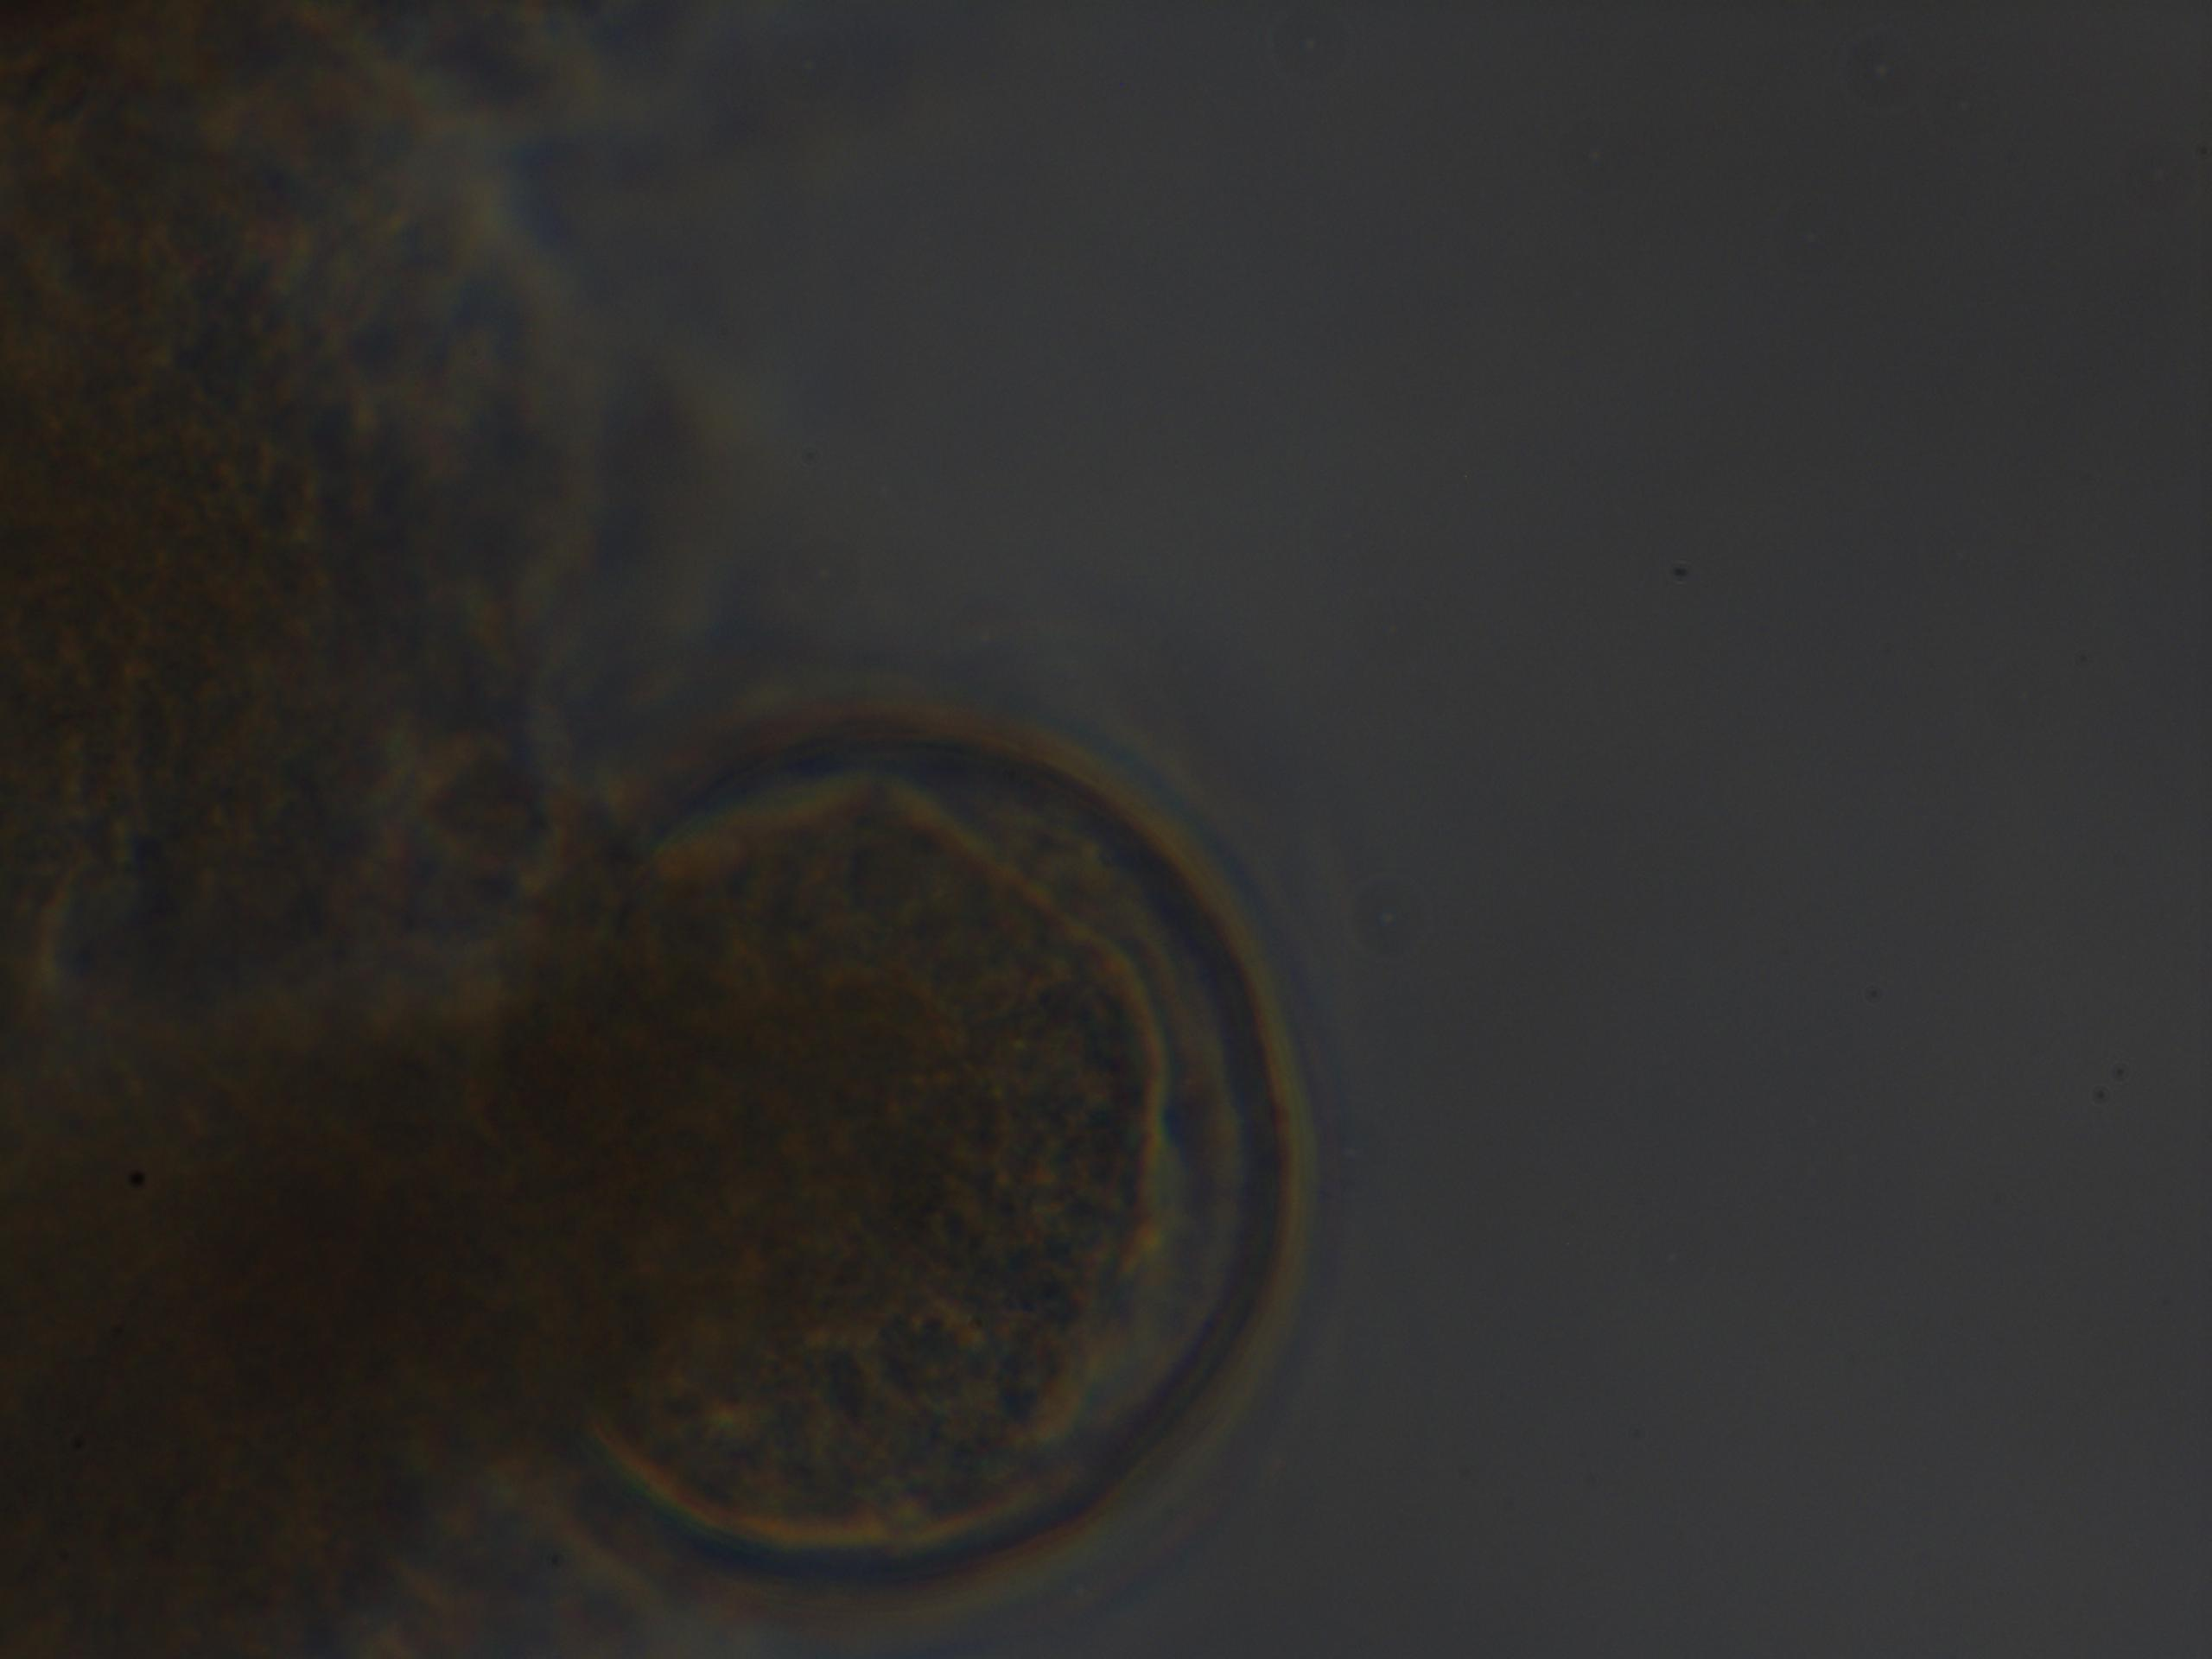protozoa: (516, 674, 1336, 1657)
